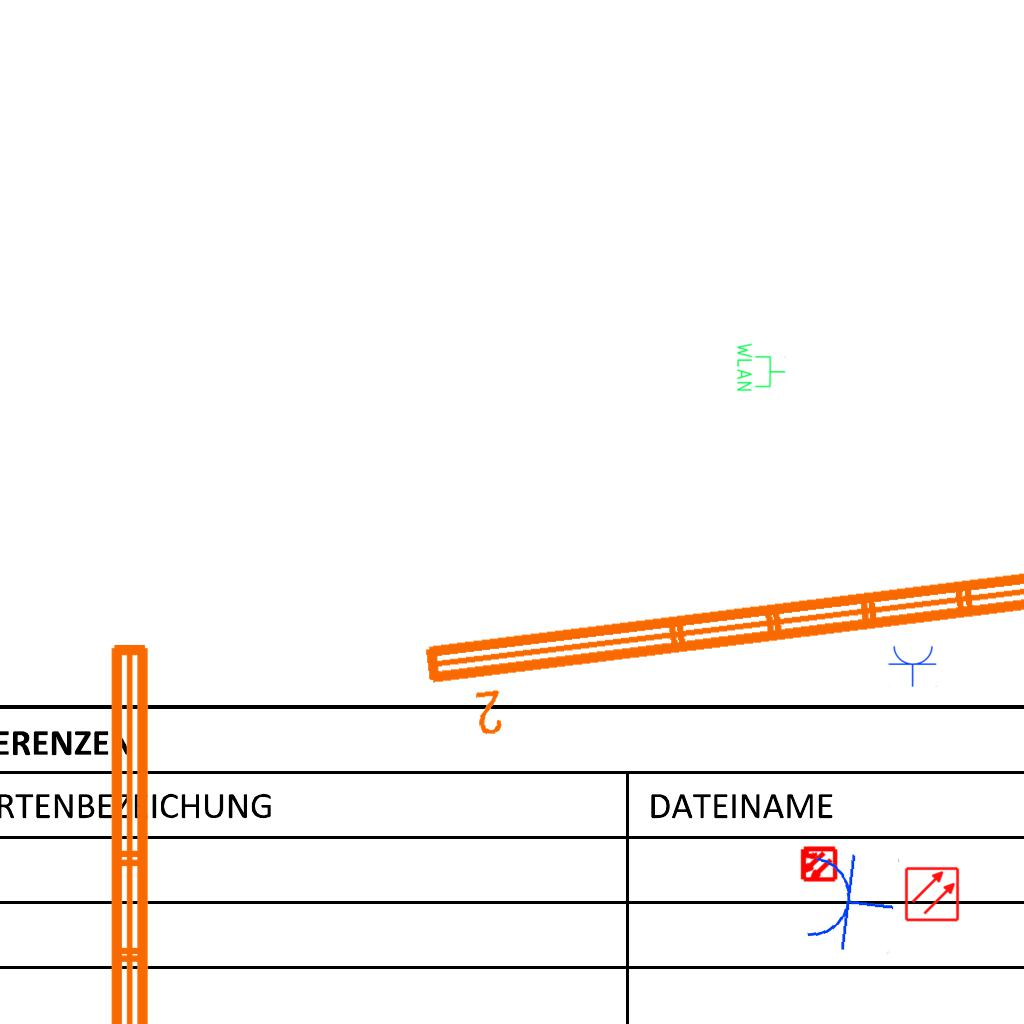Ambulanz_Pendelleuchte_LED: (415, 541, 1024, 747), (99, 634, 211, 1024)
OT_Multisensormelder_(Kombination_RMO_WMD): (790, 836, 846, 892)
RMO_Rauchmelder_optischer: (904, 866, 960, 922)
Schukosteckdose_einfach: (801, 846, 901, 957), (888, 644, 938, 687)
WLAN: (735, 341, 787, 393)
